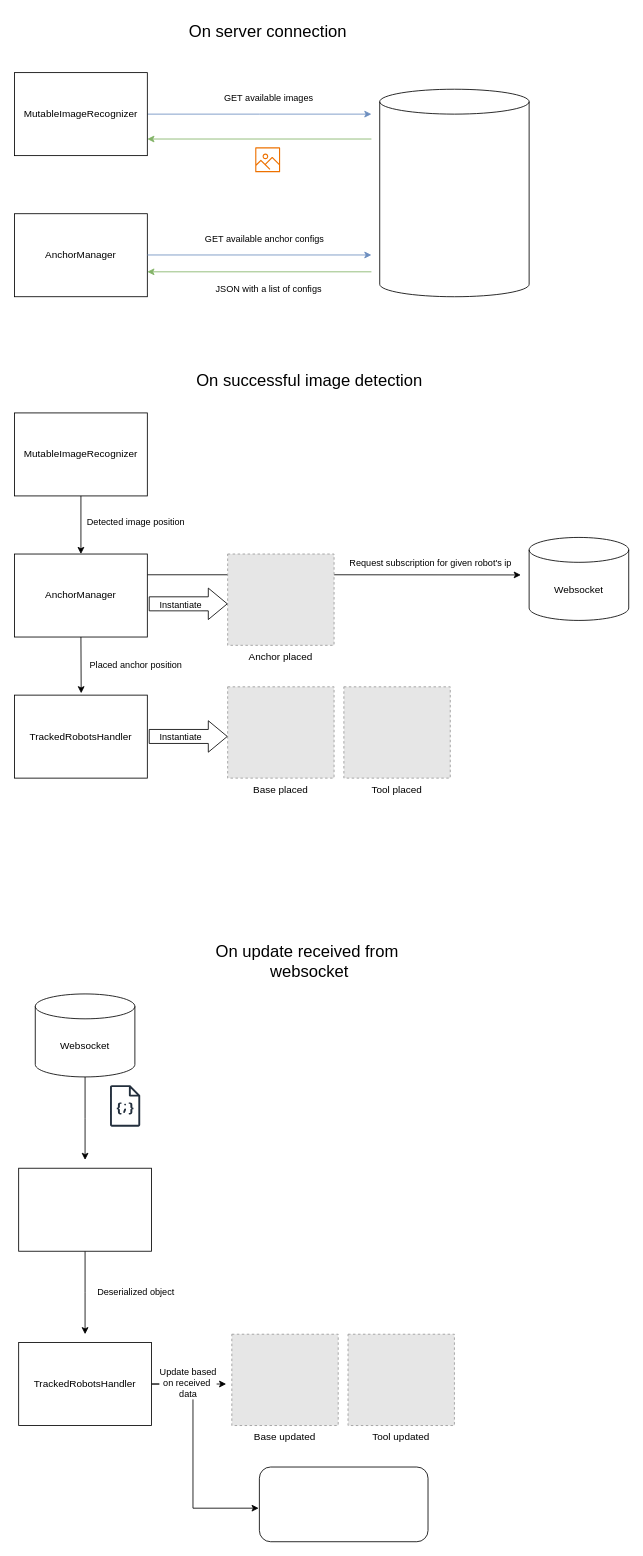
Image size: 643x1556. Some labels were removed from this diagram. Grey dashed boxes stand in for pictures. The shapes that lost their labels are listed below. From the top down, each one's centre as x and y in pixels, then its label:
At point 267,159: "base64 coded".
At point 454,192: "Data server".
At point 125,1105: "JSON data frame".
At point 84,1209: "WebsocketClient".
At point 343,1504: "Update UI".
